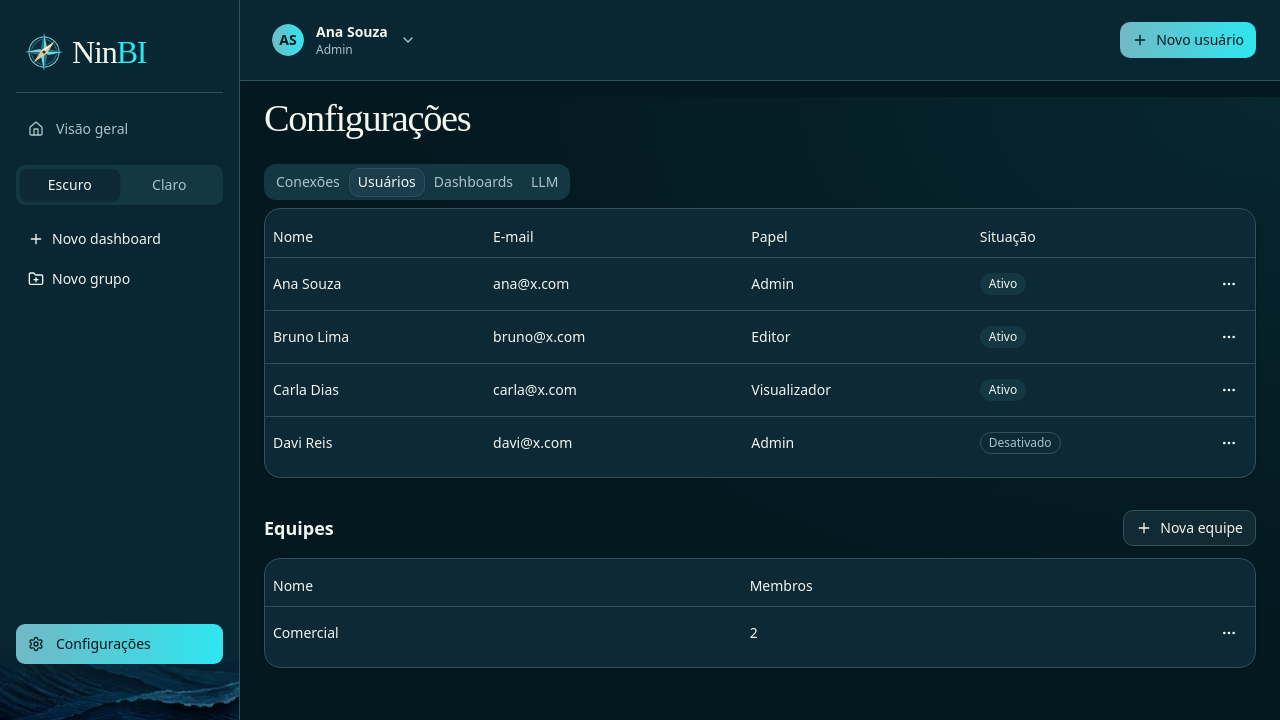
TeamDialog › TEAM-06 renomear a equipe mostra o novo nome na lista
The width and height of the screenshot is (1280, 720).
Click the button named "Ações da equipe Comercial" at (1229, 633), box [1211,615,1247,651]
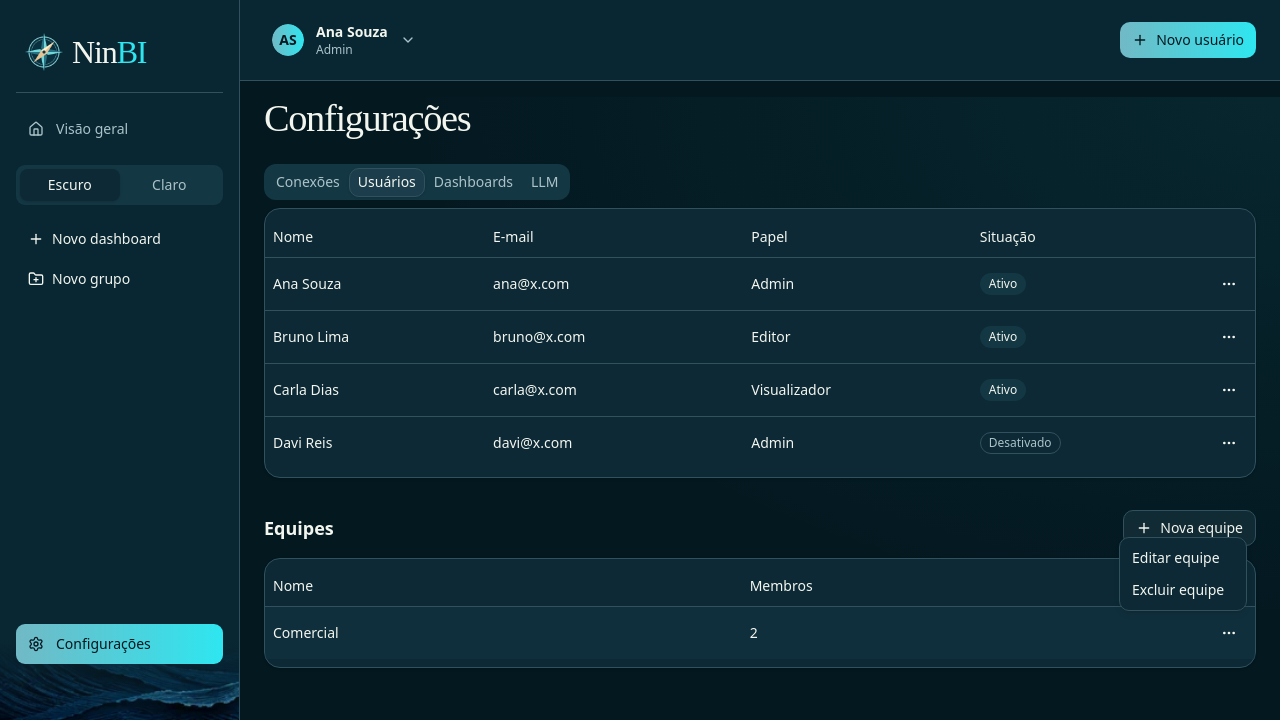
Click the menu item "Editar equipe" at (1176, 558), box [1132,548,1220,567]
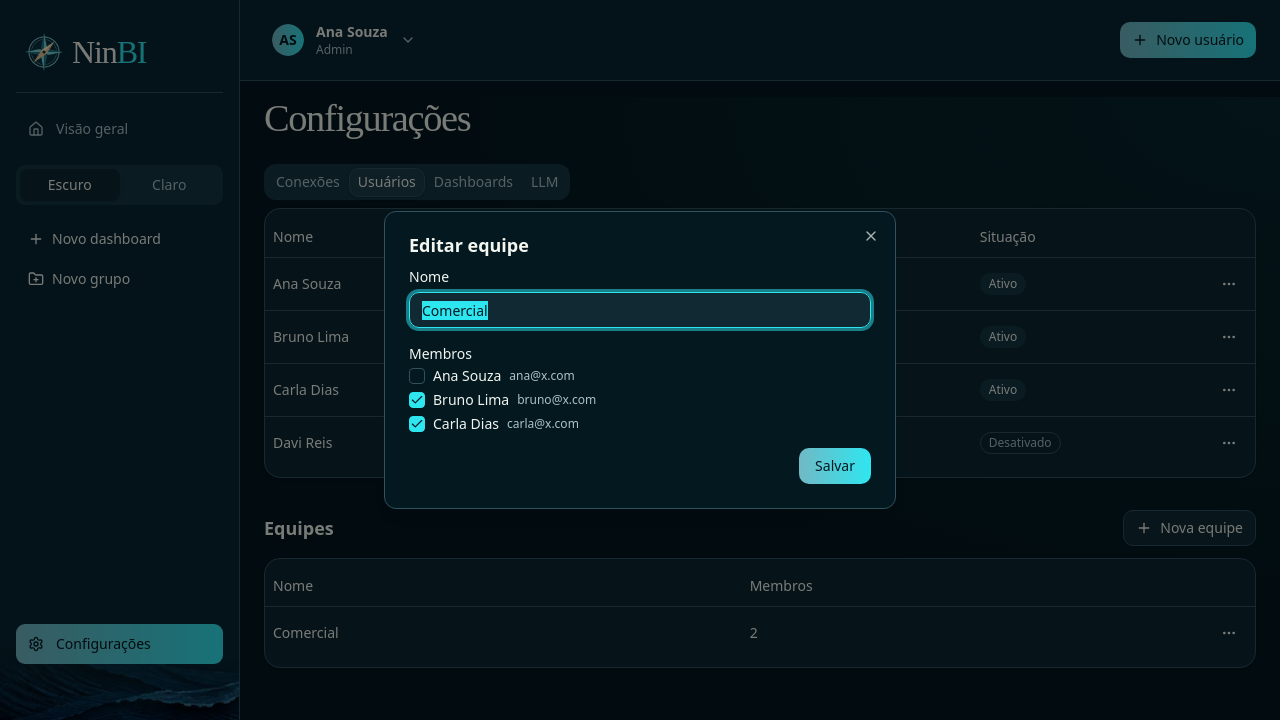
Replace the text in the field labelled "Nome" with "Vendas" at (640, 310), box [409,292,871,328]
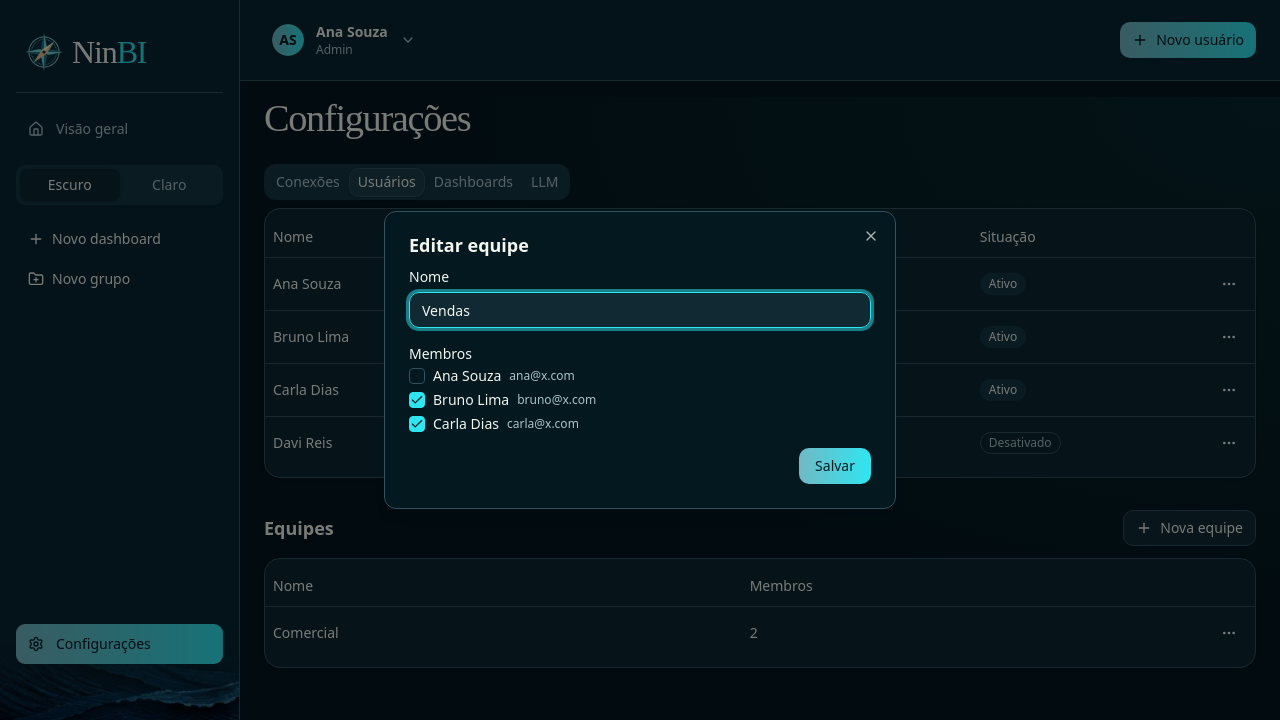
Click the button "Salvar" at (835, 466), box [799,448,871,484]
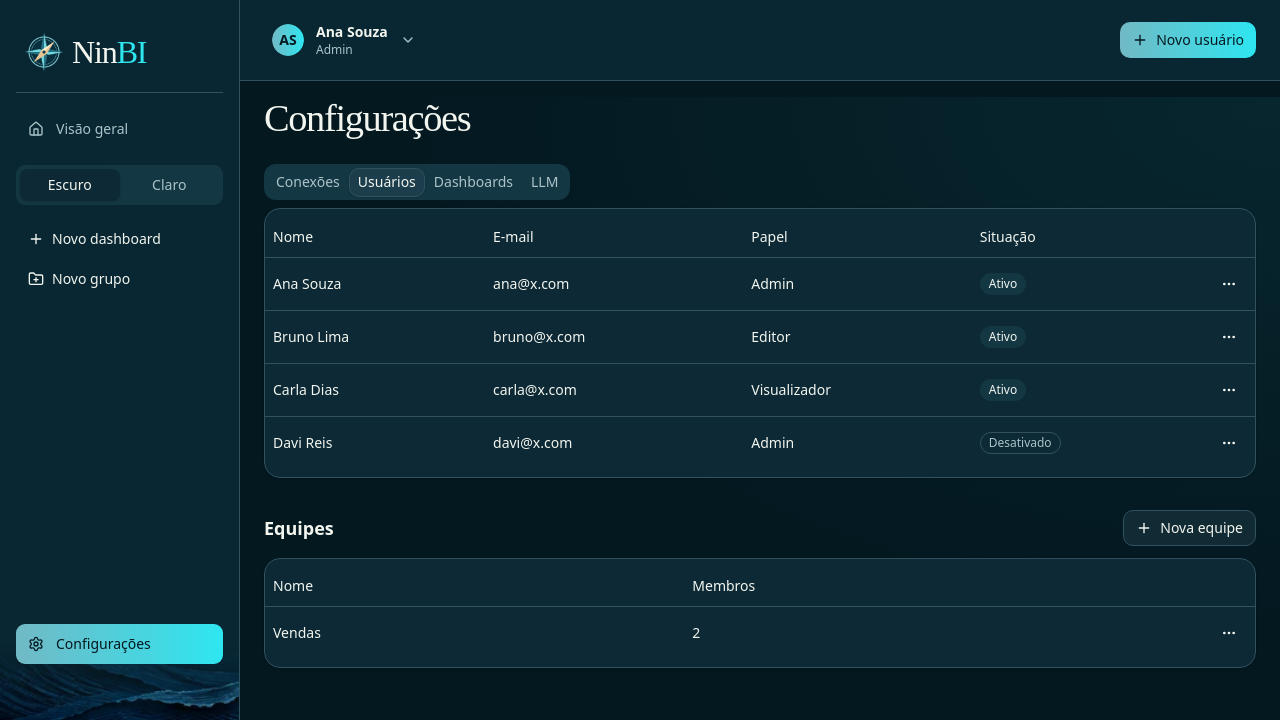
Expected: the text "Vendas" is shown, [265,606,684,659]
Expected: the text "Comercial" is gone
